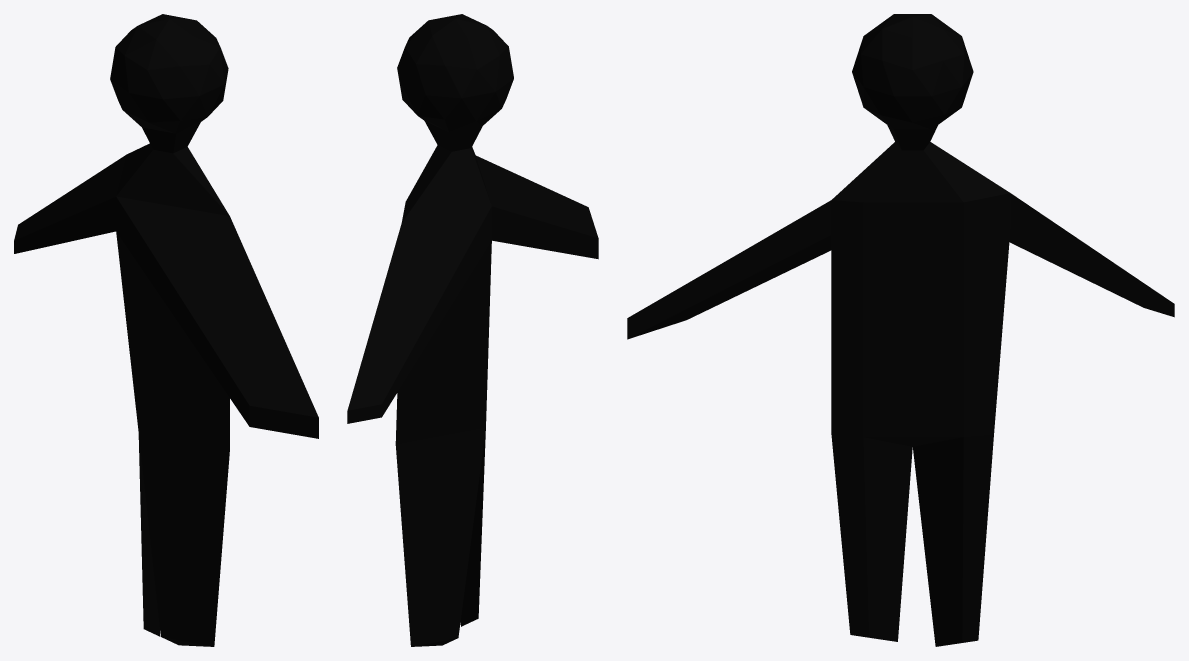
The model's file is topgun.glb.
3 views of the same model, side by side, from view 1: azimuth 30°, elevation 25°; view 2: azimuth 150°, elevation 25°; view 3: azimuth 270°, elevation 25° (orthographic).
Parts seen in each view (by area): view 1: node_id4; view 2: node_id4; view 3: node_id4.
Part boxes in pixels (x1,y1,x2,y2): node_id4: (14, 14, 318, 646); node_id4: (347, 14, 598, 646); node_id4: (627, 14, 1174, 646).
Size of the model in its own units: 0.0854 by 0.512 by 0.4037.
Materials: 1 (1 with a texture image).
